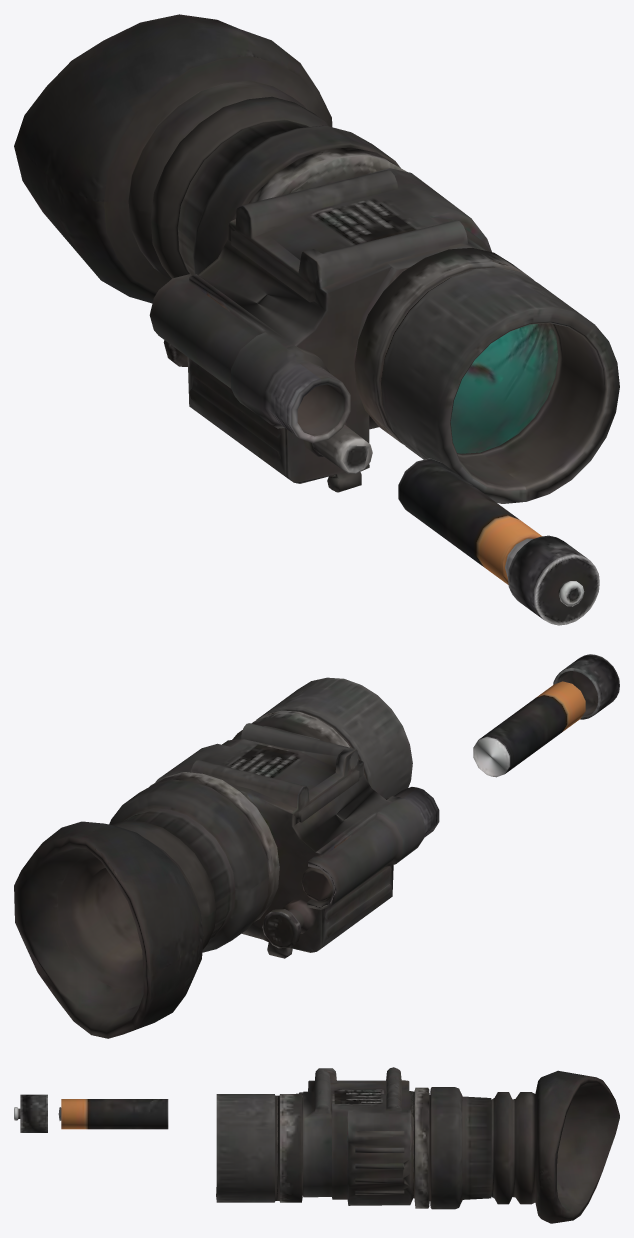
File: pvs14.glb
3 renders of one model, top to bottom at view 1: azimuth 30°, elevation 25°; view 2: azimuth 150°, elevation 25°; view 3: azimuth 270°, elevation 25°, orthographic. The views are drawn at different scales.
Parts seen in each view (by area): view 1: rigid_01_default, rigid_01_default_2, rigid_01_default_3; view 2: rigid_01_default, rigid_01_default_2, rigid_01_default_3; view 3: rigid_01_default, rigid_01_default_2, rigid_01_default_3.
Boxes of the visible parts, x1,y1,x2,y2 form: rigid_01_default: (14, 14, 619, 503); rigid_01_default_2: (398, 458, 542, 584); rigid_01_default_3: (508, 535, 599, 625); rigid_01_default: (14, 677, 439, 1038); rigid_01_default_2: (473, 681, 585, 777); rigid_01_default_3: (553, 654, 619, 719); rigid_01_default: (216, 1067, 619, 1223); rigid_01_default_2: (58, 1099, 168, 1129); rigid_01_default_3: (14, 1094, 47, 1132).
Bounding box in the file's own units: 0.1023 × 0.0846 × 0.3302.
1 material, 1 textured.
